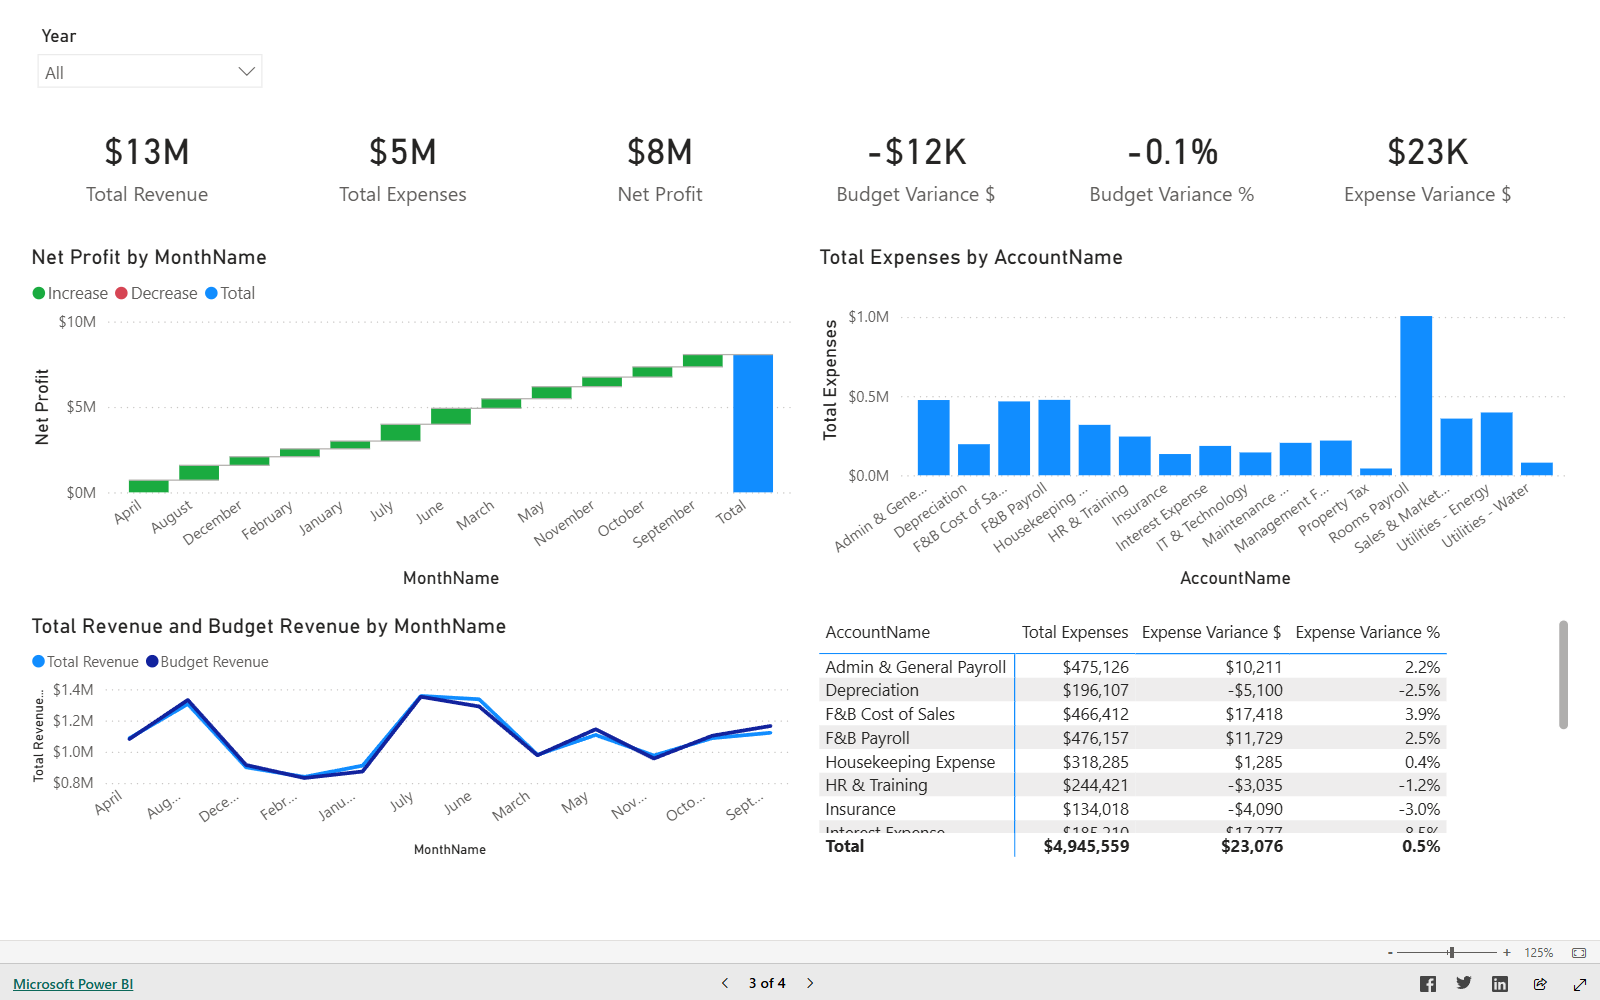

The dashboard page shown, as its layout file describes it:
{"tool":"powerbi","page":{"name":"Finance & Cash","canvas":[1280,720],"ordinal":2},"visuals":[{"type":"card","fields":{"Values":["_Measures.Total Revenue"]},"box":[20,80,195,100],"z":0},{"type":"card","fields":{"Values":["_Measures.Total Expenses"]},"box":[225,80,195,100],"z":1},{"type":"card","fields":{"Values":["_Measures.Net Profit"]},"box":[430,80,195,100],"z":2},{"type":"card","fields":{"Values":["_Measures.Budget Variance $"]},"box":[635,80,195,100],"z":3},{"type":"card","fields":{"Values":["_Measures.Budget Variance %"]},"box":[840,80,195,100],"z":4},{"type":"card","fields":{"Values":["_Measures.Expense Variance $"]},"box":[1045,80,195,100],"z":5},{"type":"waterfallChart","fields":{"Category":["Dim_Date.MonthName"],"Y":["_Measures.Net Profit"]},"box":[20,195,620,280],"z":6},{"type":"clusteredColumnChart","fields":{"Category":["Dim_Account.AccountName"],"Y":["_Measures.Total Expenses"]},"box":[650,195,610,280],"z":7},{"type":"lineChart","fields":{"Category":["Dim_Date.MonthName"],"Y":["_Measures.Total Revenue","_Measures.Budget Revenue"]},"box":[20,490,620,200],"z":8},{"type":"pivotTable","fields":{"Rows":["Dim_Account.AccountName"],"Values":["_Measures.Total Expenses","_Measures.Expense Variance $","_Measures.Expense Variance %"]},"box":[650,490,610,200],"z":9},{"type":"slicer","fields":{"Values":["Dim_Date.Year"]},"box":[19.9,14.8,199.9,57.6],"z":10}]}

Visuals, with their boxes on the page's 1280x720 design canvas (x1, y1, x2, y2). These are canvas units, not pixel positions in the 1600x1000 screenshot, which may show the page scaled, cropped or inside an application window:
card - _Measures.Total Revenue: 20, 80, 215, 180
card - _Measures.Total Expenses: 225, 80, 420, 180
card - _Measures.Net Profit: 430, 80, 625, 180
card - _Measures.Budget Variance $: 635, 80, 830, 180
card - _Measures.Budget Variance %: 840, 80, 1035, 180
card - _Measures.Expense Variance $: 1045, 80, 1240, 180
waterfallChart - Dim_Date.MonthName x _Measures.Net Profit: 20, 195, 640, 475
clusteredColumnChart - Dim_Account.AccountName x _Measures.Total Expenses: 650, 195, 1260, 475
lineChart - Dim_Date.MonthName x _Measures.Total Revenue: 20, 490, 640, 690
pivotTable - Dim_Account.AccountName x _Measures.Total Expenses: 650, 490, 1260, 690
slicer - Dim_Date.Year: 20, 15, 220, 72
